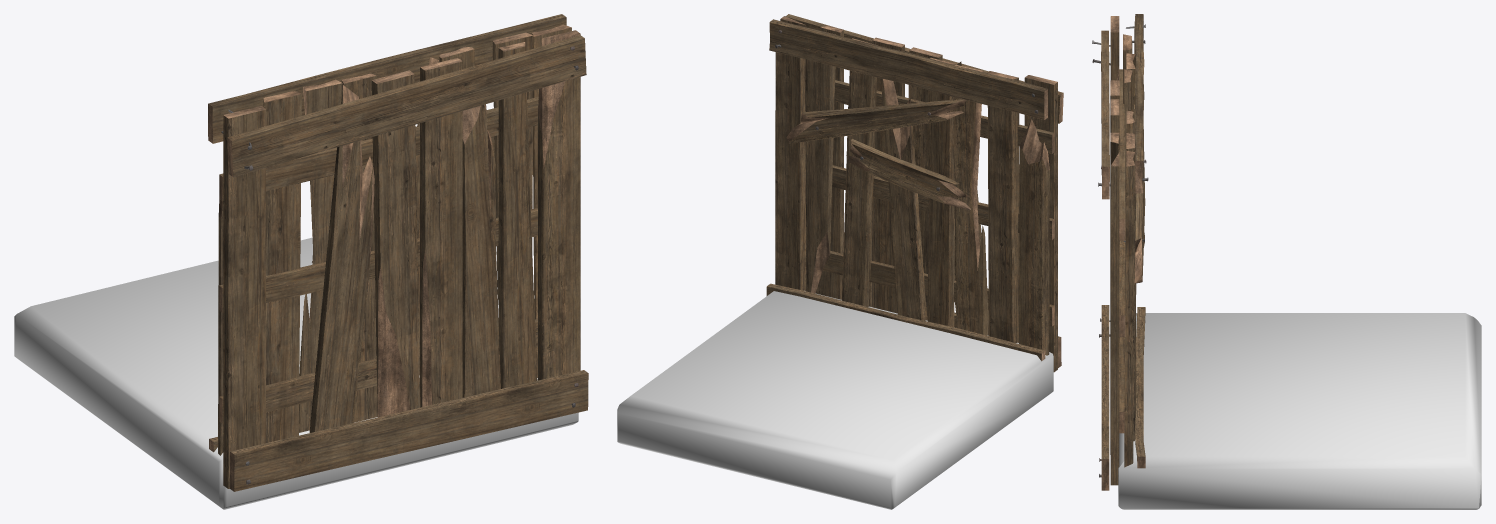
Rendered from SM_Wall_3x3_A.fbx.
3 renders of one model, left to right at view 1: azimuth 30°, elevation 25°; view 2: azimuth 150°, elevation 25°; view 3: azimuth 270°, elevation 25°, orthographic. The views are drawn at different scales.
Visible parts, largest first — view 1: SM_Wall_3x3_A, SM_Wall_3x3_A_ConvexHulls; view 2: SM_Wall_3x3_A, SM_Wall_3x3_A_ConvexHulls; view 3: SM_Wall_3x3_A_ConvexHulls, SM_Wall_3x3_A.
Boxes of the visible parts, bbox=[...] form: SM_Wall_3x3_A: bbox=[208, 14, 588, 491]; SM_Wall_3x3_A_ConvexHulls: bbox=[14, 237, 578, 509]; SM_Wall_3x3_A: bbox=[766, 14, 1063, 372]; SM_Wall_3x3_A_ConvexHulls: bbox=[617, 290, 1053, 509]; SM_Wall_3x3_A_ConvexHulls: bbox=[1118, 313, 1481, 509]; SM_Wall_3x3_A: bbox=[1092, 14, 1148, 490].
Bounding box in the file's own units: 3.03 × 3.26 × 3.3.
